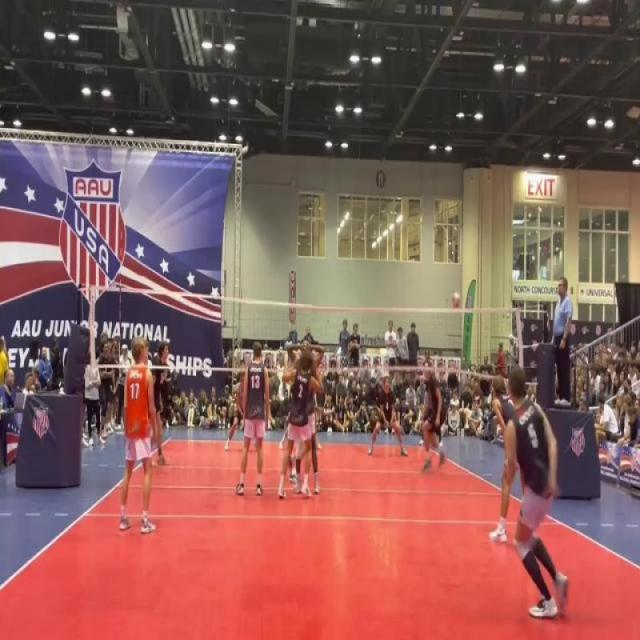volleyball: (451, 290, 462, 310)
